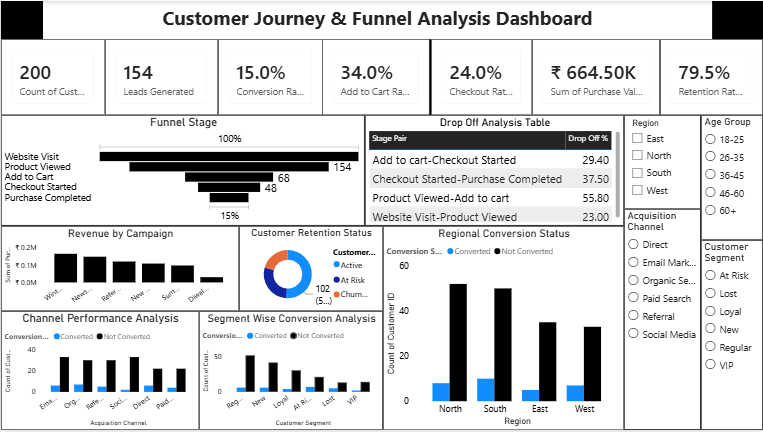

What the dashboard file says about the page in this screenshot:
{"tool":"powerbi","page":{"name":"Page 1","canvas":[1280,720],"ordinal":0},"visuals":[{"type":"cardVisual","fields":{"Data":["CountNonNull(customer_journey_data.Customer ID)"]},"box":[0,63.8,174.7,127.7],"z":0},{"type":"cardVisual","fields":{"Data":["customer_journey_data.Leads Generated"]},"box":[174.7,63.8,189.8,127.7],"z":1},{"type":"cardVisual","fields":{"Data":["customer_journey_data.Conversion Rate %"]},"box":[364.5,63.8,176.4,127.7],"z":2},{"type":"cardVisual","fields":{"Data":["customer_journey_data.Add to Cart Rate %"]},"box":[539.2,63.8,181.4,127.7],"z":3},{"type":"cardVisual","fields":{"Data":["customer_journey_data.Checkout Rate %"]},"box":[722.3,63.8,169.7,127.7],"z":4},{"type":"funnel","title":" Funnel Stage","fields":{"Category":["Funnet Stage.Stage"],"Y":["Sum(Funnet Stage.Count)"]},"box":[0,191.5,611.4,186.5],"z":5},{"type":"clusteredColumnChart","title":"Channel Performance Analysis","fields":{"Category":["customer_journey_data.Acquisition Channel"],"Y":["CountNonNull(customer_journey_data.Customer ID)"],"Series":["customer_journey_data.Conversion Status"]},"box":[0,520.7,332.6,199.9],"z":6},{"type":"clusteredColumnChart","title":"Segment Wise Conversion Analysis","fields":{"Category":["customer_journey_data.Customer Segment"],"Y":["CountNonNull(customer_journey_data.Customer ID)"],"Series":["customer_journey_data.Conversion Status"]},"box":[332.6,520.7,309.1,199.9],"z":7},{"type":"donutChart","title":" Customer Retention Status","fields":{"Category":["customer_journey_data.Customer Retention Status"],"Y":["CountNonNull(customer_journey_data.Customer ID)"]},"box":[399.8,378,241.9,142.8],"z":9},{"type":"slicer","fields":{"Values":["customer_journey_data.Region"]},"box":[1046.5,191.5,129.3,157.9],"z":10},{"type":"listSlicer","fields":{"Values":["customer_journey_data.Customer Segment"]},"box":[1175.9,401.5,104.1,319.2],"z":11},{"type":"listSlicer","fields":{"Values":["customer_journey_data.Acquisition Channel"]},"box":[1046.5,349.4,129.3,371.2],"z":12},{"type":"listSlicer","fields":{"Values":["customer_journey_data.Age Group"]},"box":[1175.9,191.5,104.1,210],"z":13},{"type":"cardVisual","fields":{"Data":["Sum(customer_journey_data.Purchase Value)"]},"box":[892,63.8,215,127.7],"z":14},{"type":"cardVisual","fields":{"Data":["Funnet Stage.Retention Rate %"]},"box":[1107,63.8,173,127.7],"z":15},{"type":"clusteredColumnChart","title":"Regional Conversion Status","fields":{"Category":["customer_journey_data.Region"],"Y":["CountNonNull(customer_journey_data.Customer ID)"],"Series":["customer_journey_data.Conversion Status"]},"box":[641.7,378,404.8,342.7],"z":16},{"type":"tableEx","title":"Drop Off Analysis Table","fields":{"Values":["Drop Off Analysis.Stage Pair","Drop Off Analysis.Drop Off %"]},"box":[611.4,191.5,435.1,186.5],"z":17},{"type":"clusteredColumnChart","title":"Revenue by Campaign","fields":{"Category":["customer_journey_data.Campaign Name"],"Y":["Sum(customer_journey_data.Purchase Value)"]},"box":[0,378,399.8,142.8],"z":18},{"type":"textbox","box":[70.6,0,1123.8,63.8],"z":19}]}

Visuals, with their boxes in screenshot pixels (x1, y1, x2, y2), scaled from the page's 1280x720 canvas onto the 763x432 screenshot:
cardVisual - CountNonNull(customer_journey_data.Customer ID): box=[0, 38, 104, 115]
cardVisual - customer_journey_data.Leads Generated: box=[104, 38, 217, 115]
cardVisual - customer_journey_data.Conversion Rate %: box=[217, 38, 322, 115]
cardVisual - customer_journey_data.Add to Cart Rate %: box=[321, 38, 430, 115]
cardVisual - customer_journey_data.Checkout Rate %: box=[431, 38, 532, 115]
" Funnel Stage" funnel: box=[0, 115, 364, 227]
"Channel Performance Analysis" clusteredColumnChart: box=[0, 312, 198, 431]
"Segment Wise Conversion Analysis" clusteredColumnChart: box=[198, 312, 383, 431]
" Customer Retention Status" donutChart: box=[238, 227, 383, 312]
slicer - customer_journey_data.Region: box=[624, 115, 701, 210]
listSlicer - customer_journey_data.Customer Segment: box=[701, 241, 762, 431]
listSlicer - customer_journey_data.Acquisition Channel: box=[624, 210, 701, 431]
listSlicer - customer_journey_data.Age Group: box=[701, 115, 762, 241]
cardVisual - Sum(customer_journey_data.Purchase Value): box=[532, 38, 660, 115]
cardVisual - Funnet Stage.Retention Rate %: box=[660, 38, 762, 115]
"Regional Conversion Status" clusteredColumnChart: box=[383, 227, 624, 431]
"Drop Off Analysis Table" tableEx: box=[364, 115, 624, 227]
"Revenue by Campaign" clusteredColumnChart: box=[0, 227, 238, 312]
textbox: box=[42, 0, 712, 38]
